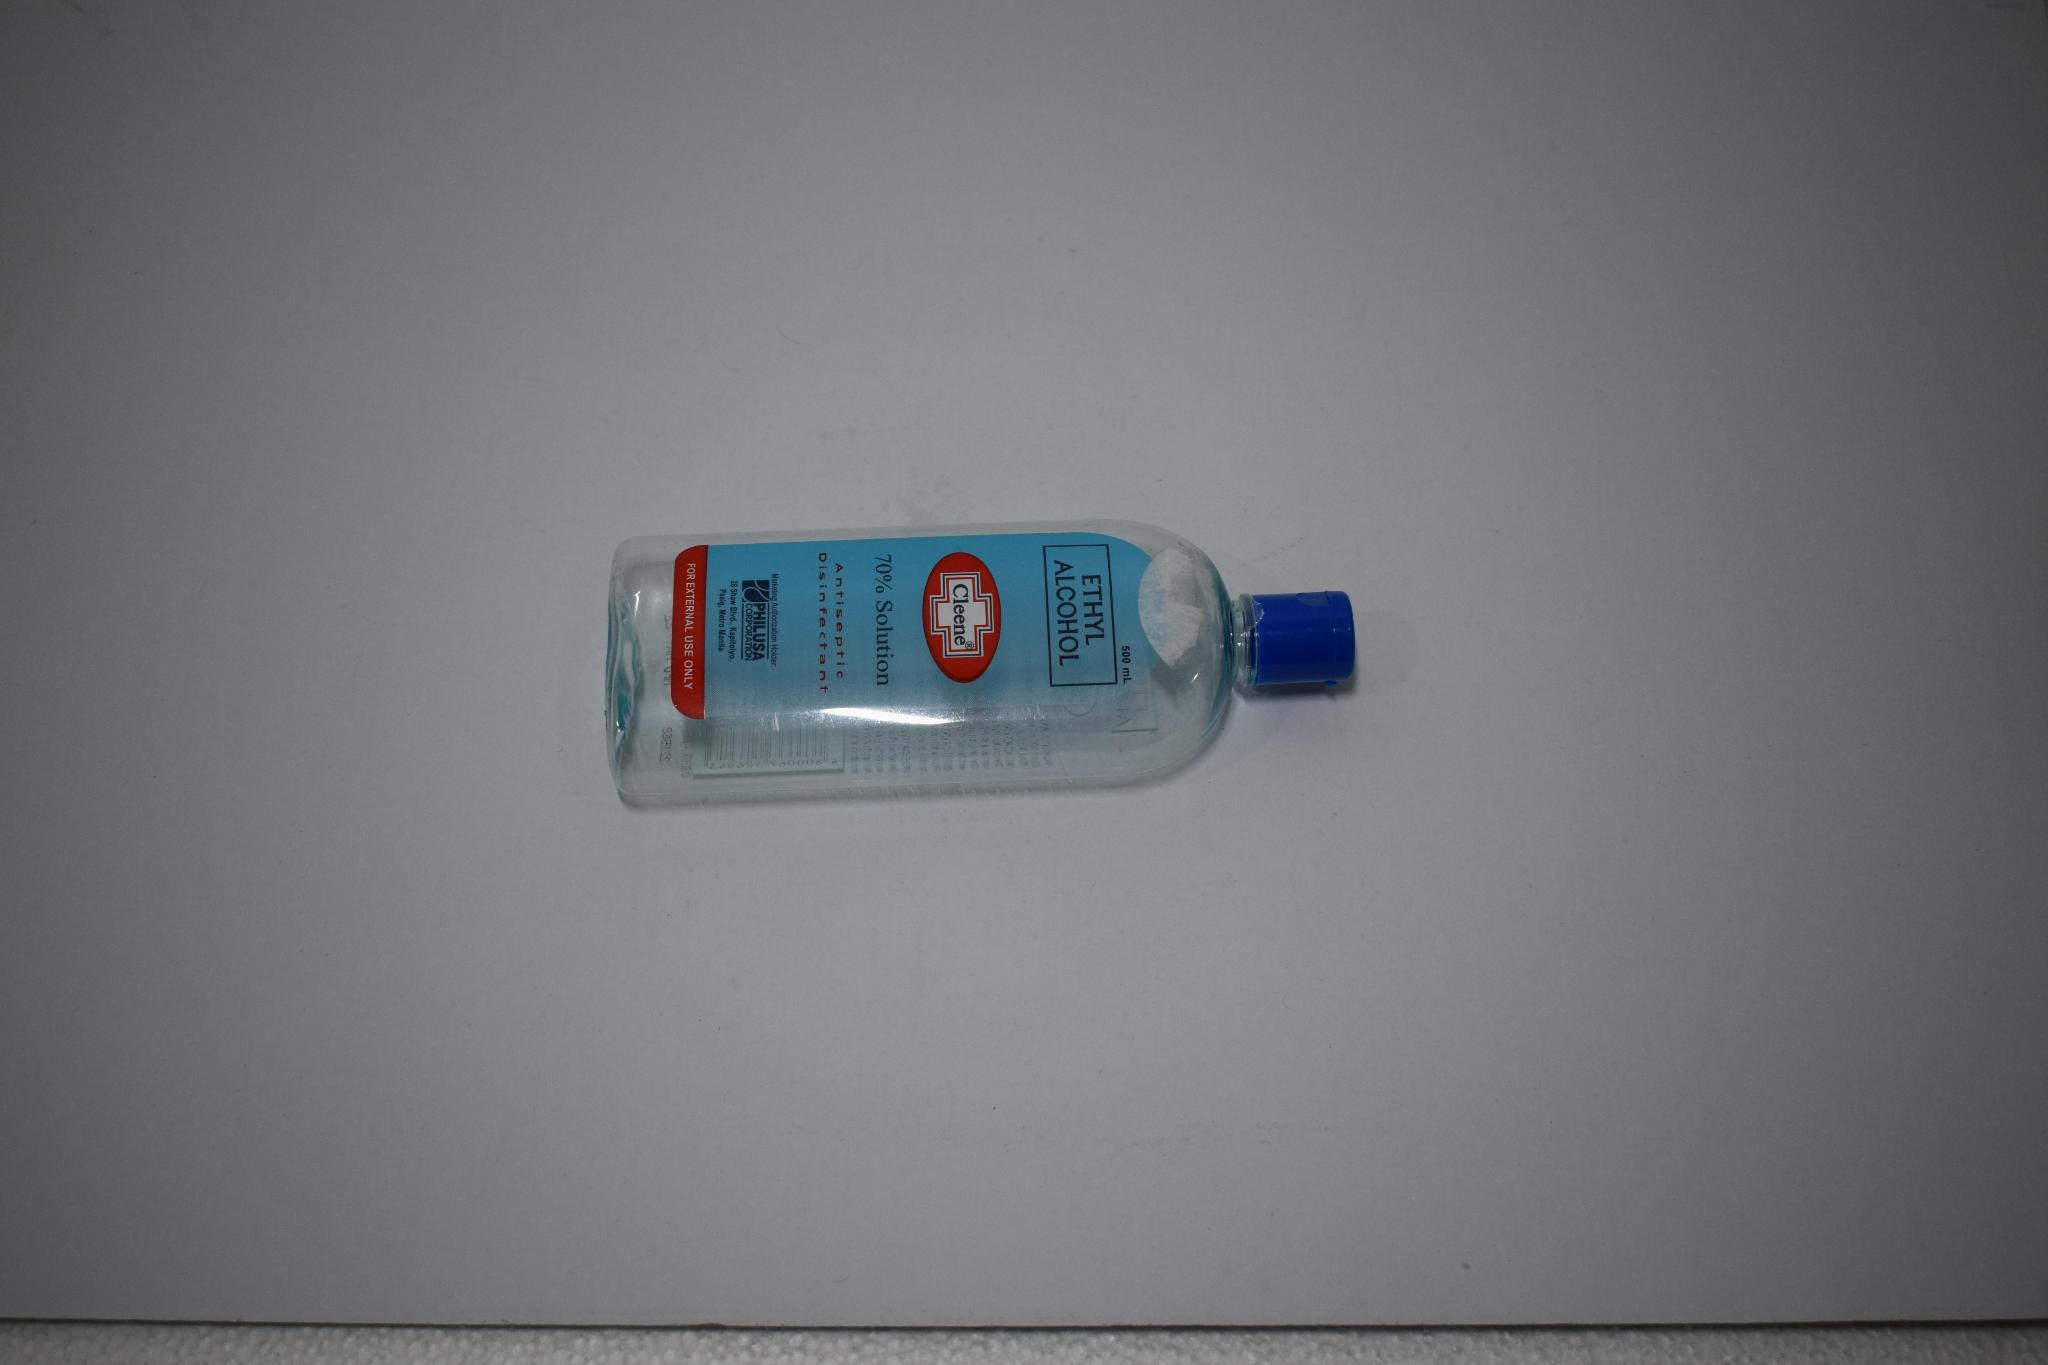bottle: (598, 519, 1361, 820)
